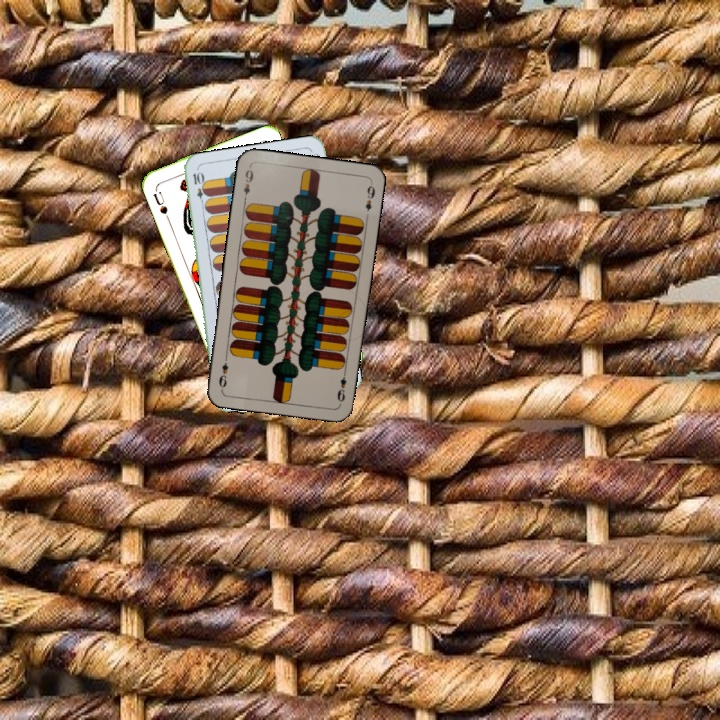E10: (189, 168, 208, 208)
E9: (239, 163, 256, 203), (333, 366, 349, 407)
SU: (149, 183, 170, 217)
